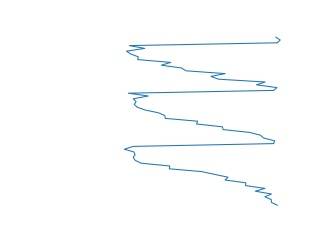distributaryMouthBar: (122, 34, 283, 210)
